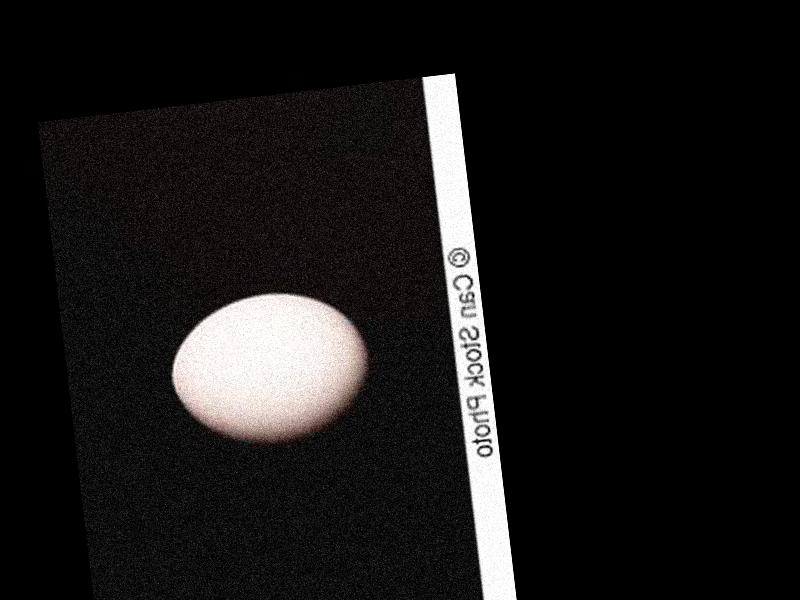Eggs: (163, 283, 379, 451)
